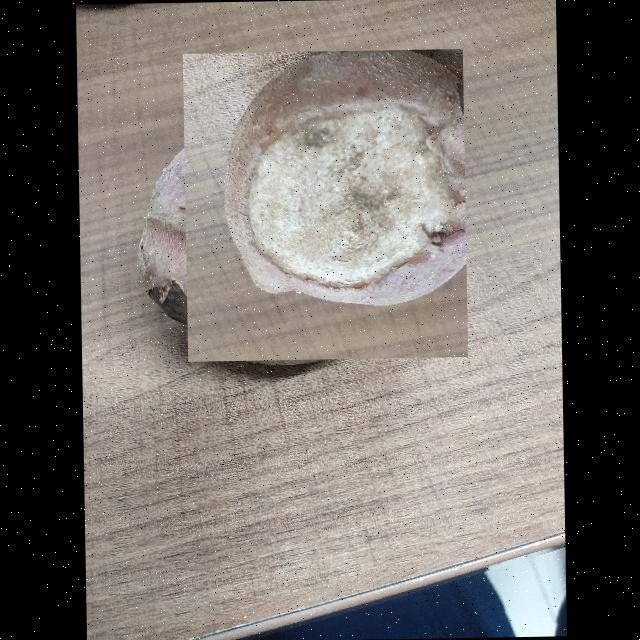Damaged potato: (182, 48, 466, 362)
